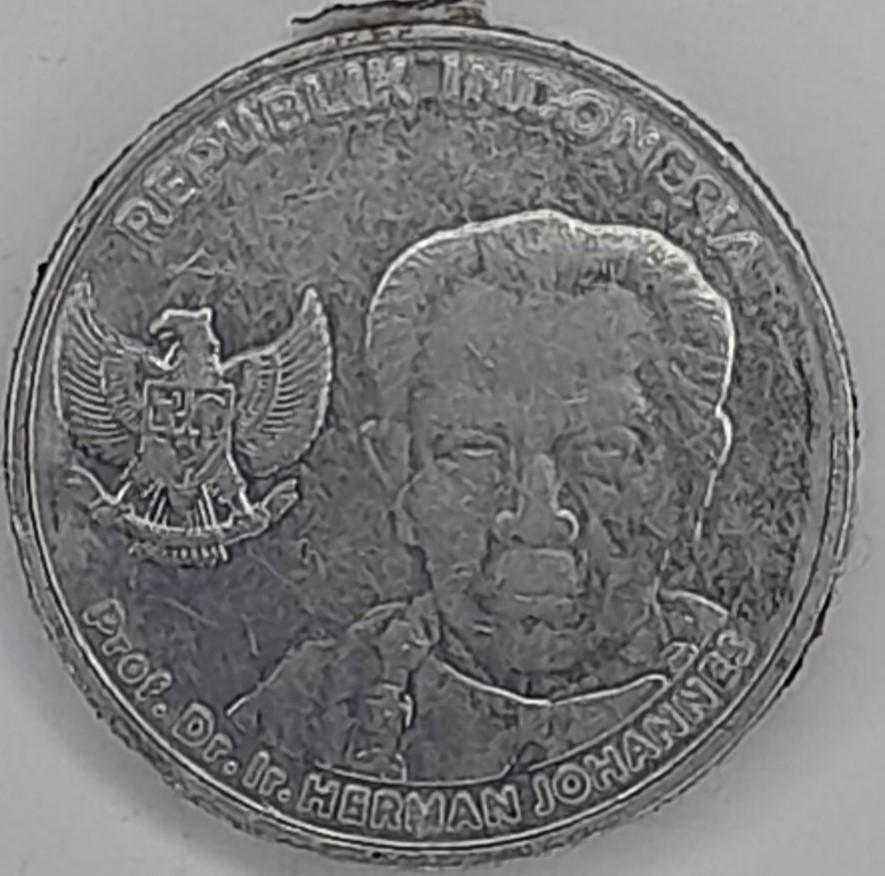coin_100_e2016: (0, 0, 866, 872)
